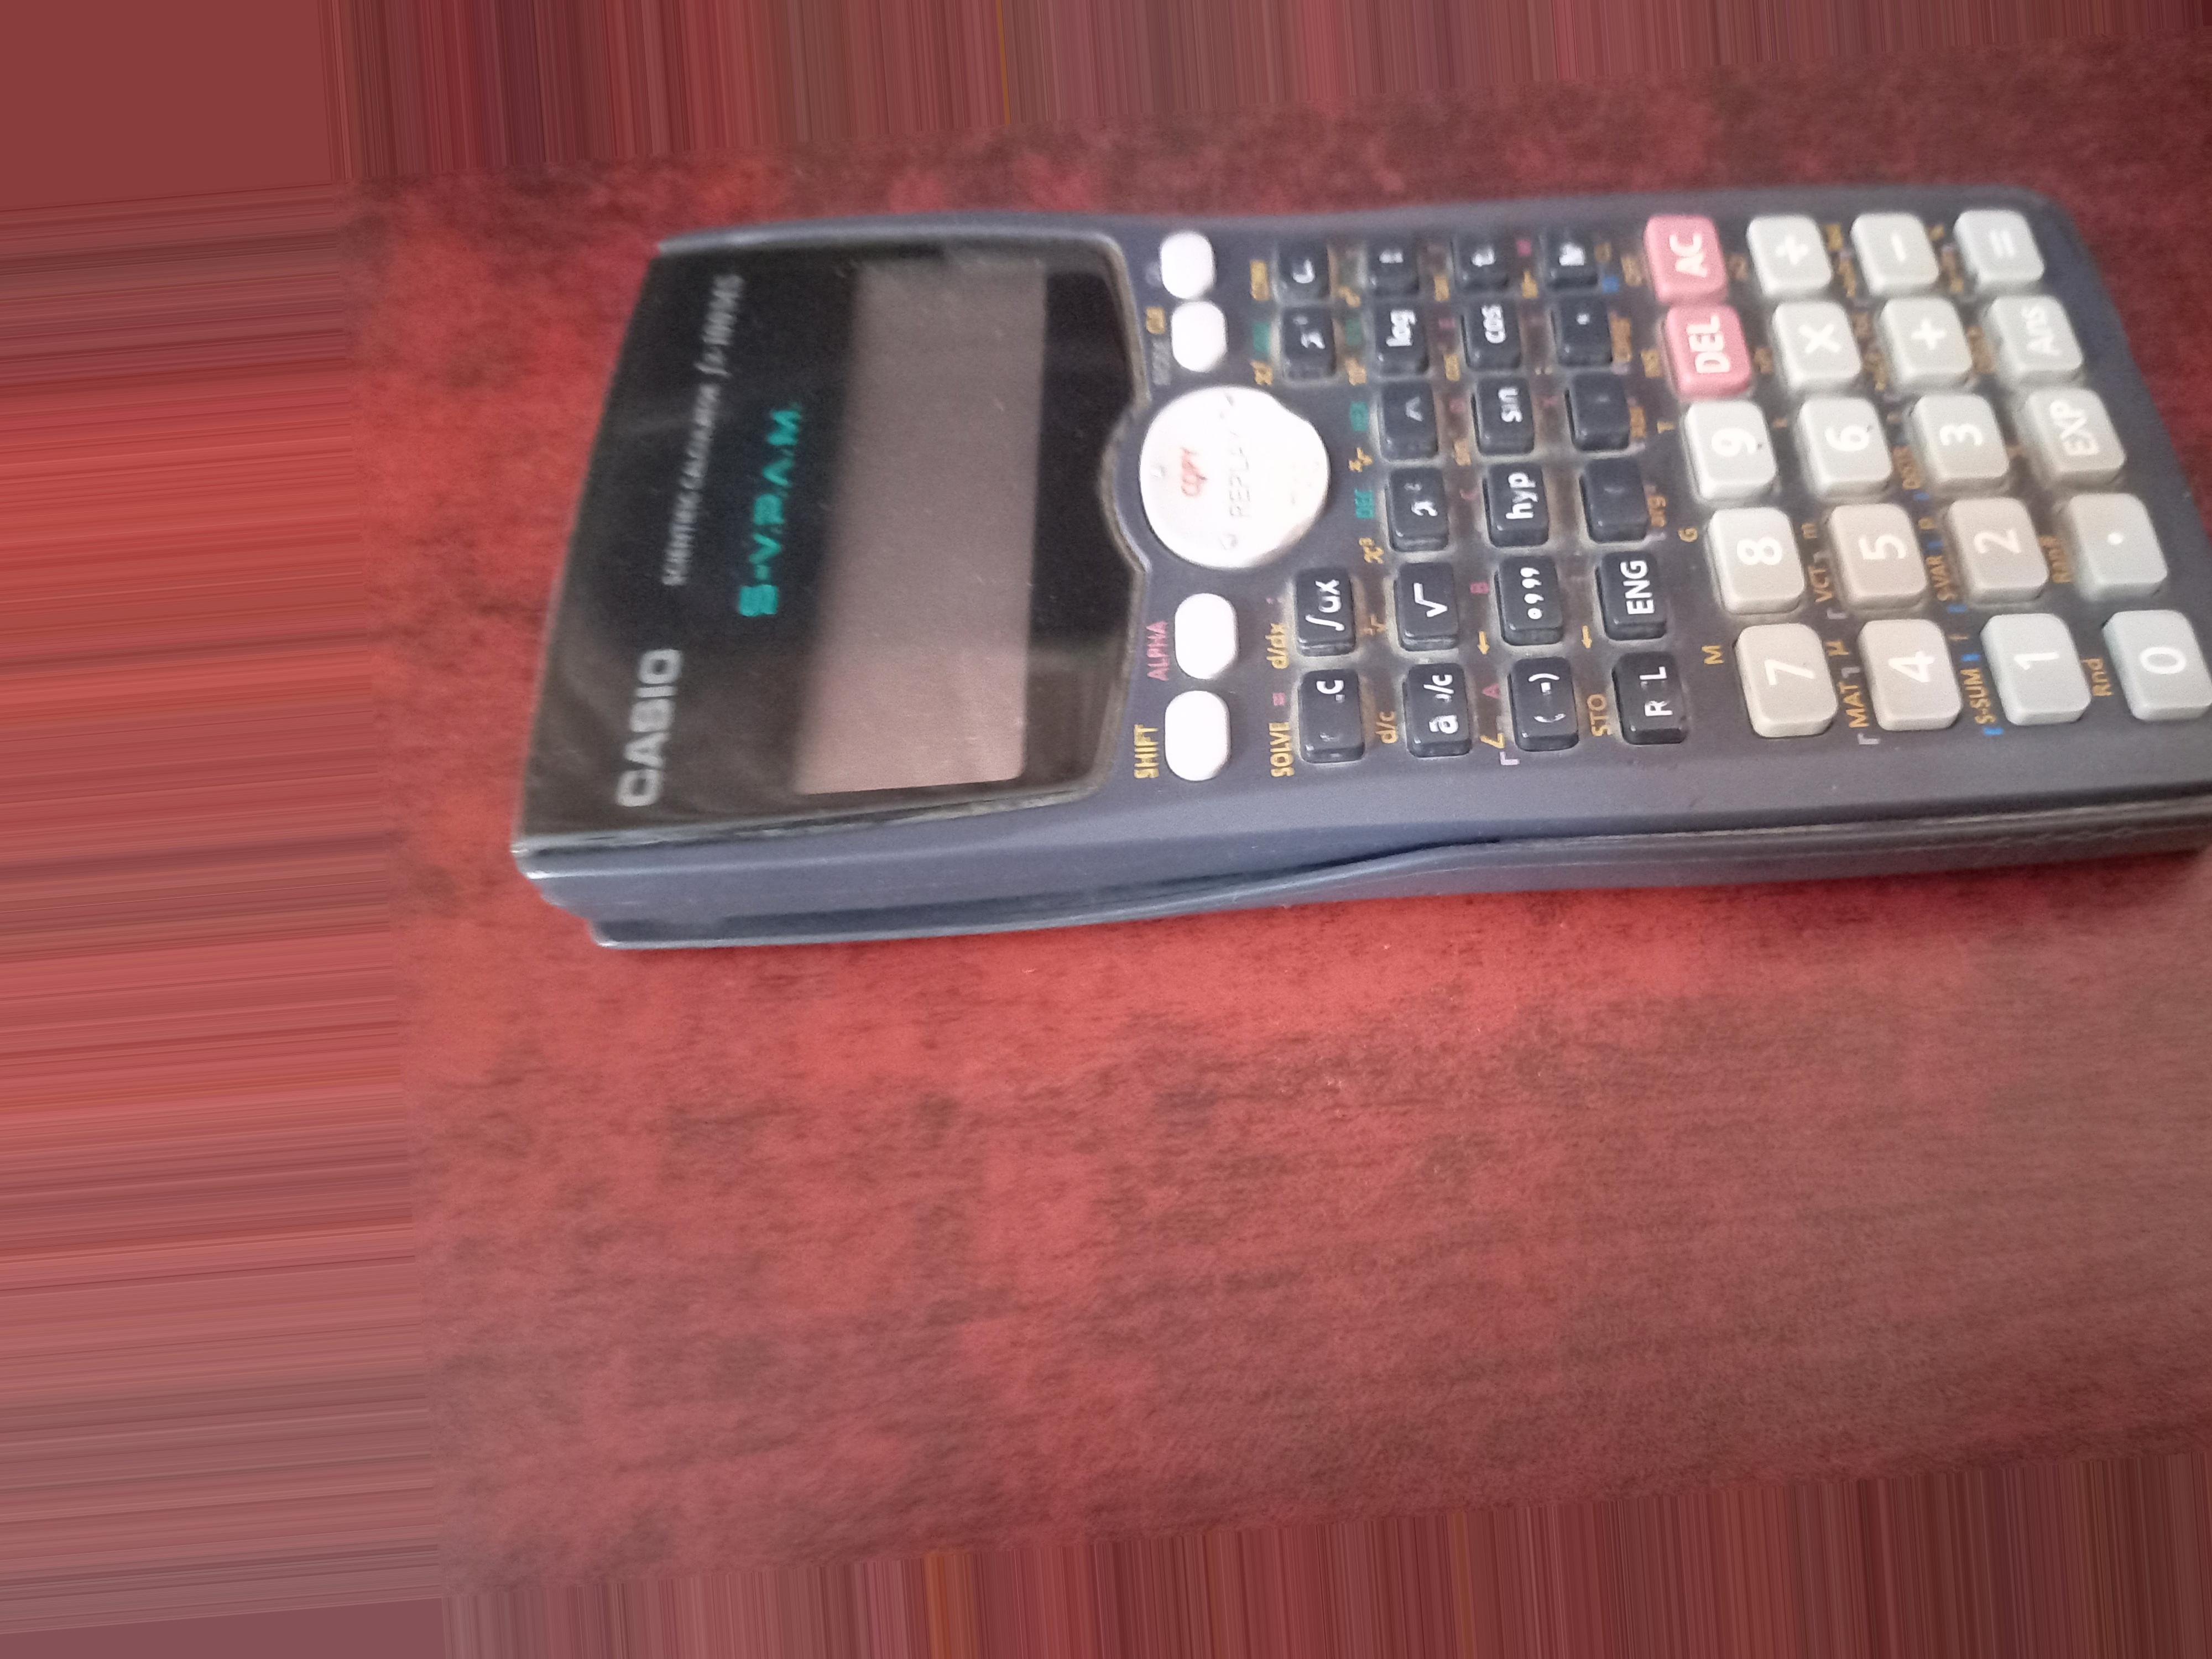calculator: (535, 214, 2188, 934)
